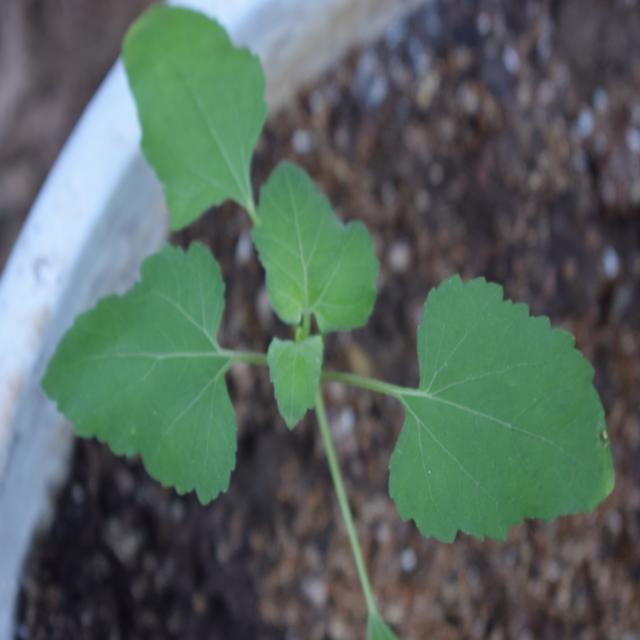cocklebur: (73, 28, 610, 582)
